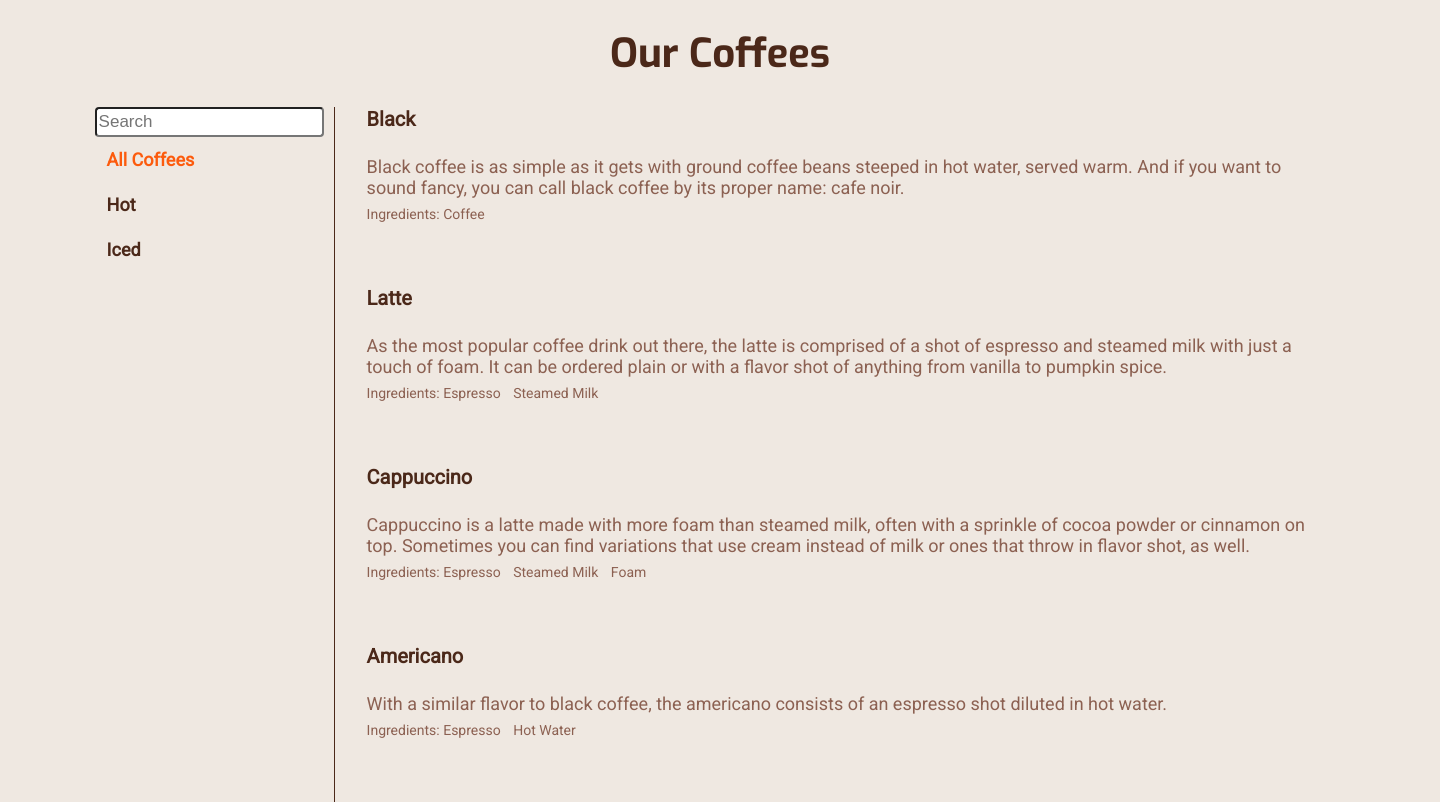
should Landing page text content as expected
Expected: the text "Black" is shown, [367,107,415,131]
Expected: the text "Black coffee is as simple as it gets with ground coffee beans steeped in hot water, served warm. And if you want to soun" is shown, [367,156,1281,198]
Click hot button
Step 1. Click the button "hot" → (121, 204), box [107,194,136,215]
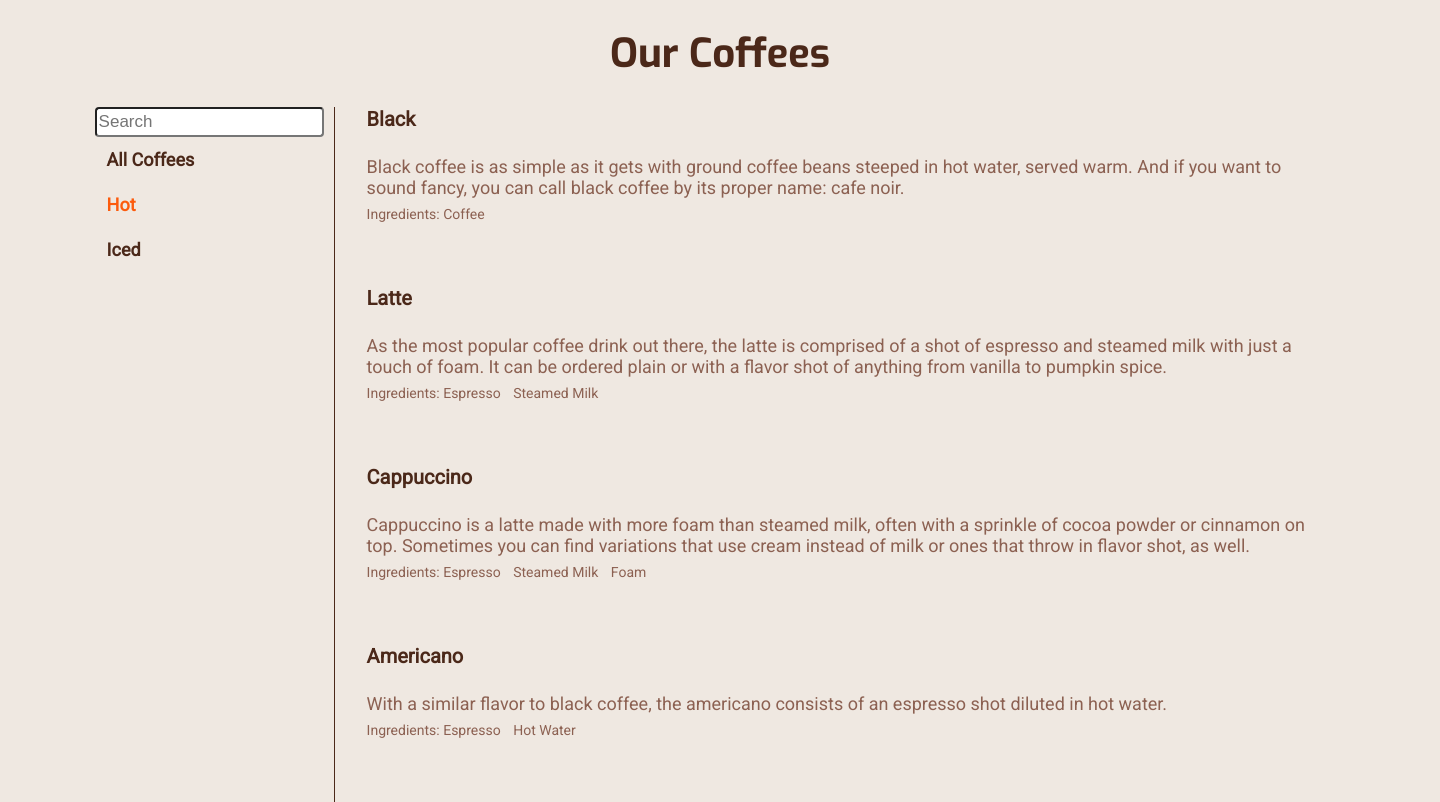
Find and write Bl to search box
Step 2. Type "Bl" into the field → (209, 122), box [95,107,324,137]
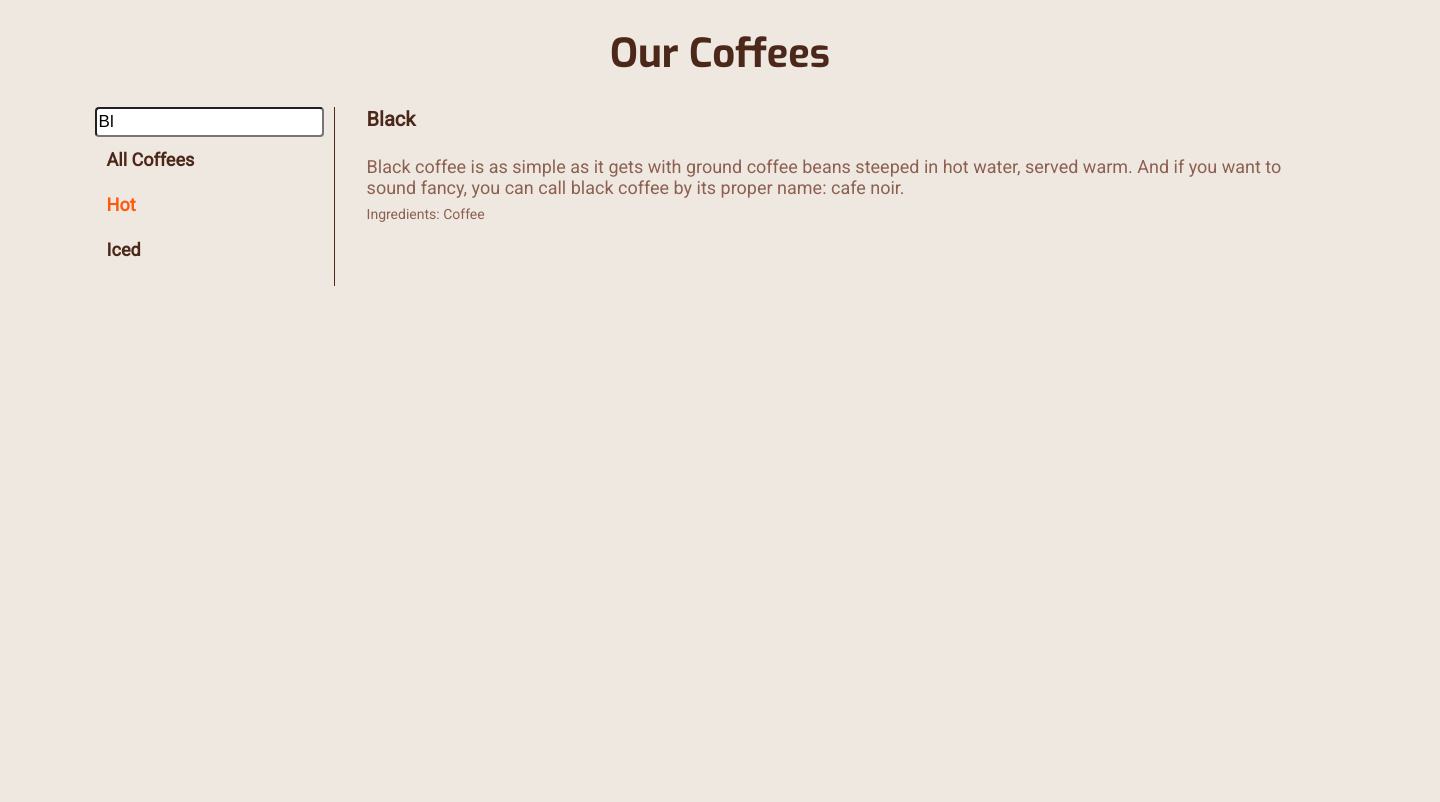
Expected: the text "Black" is shown, [367,107,415,131]
Expected: the text "Latte" is gone
Expected: the text "As the most popular coffee drink out there, the latte is comprised of a shot of espresso and steamed milk with just a to" is gone
Click Iced button
Step 3. Click the button "iced" → (124, 249), box [107,239,141,260]
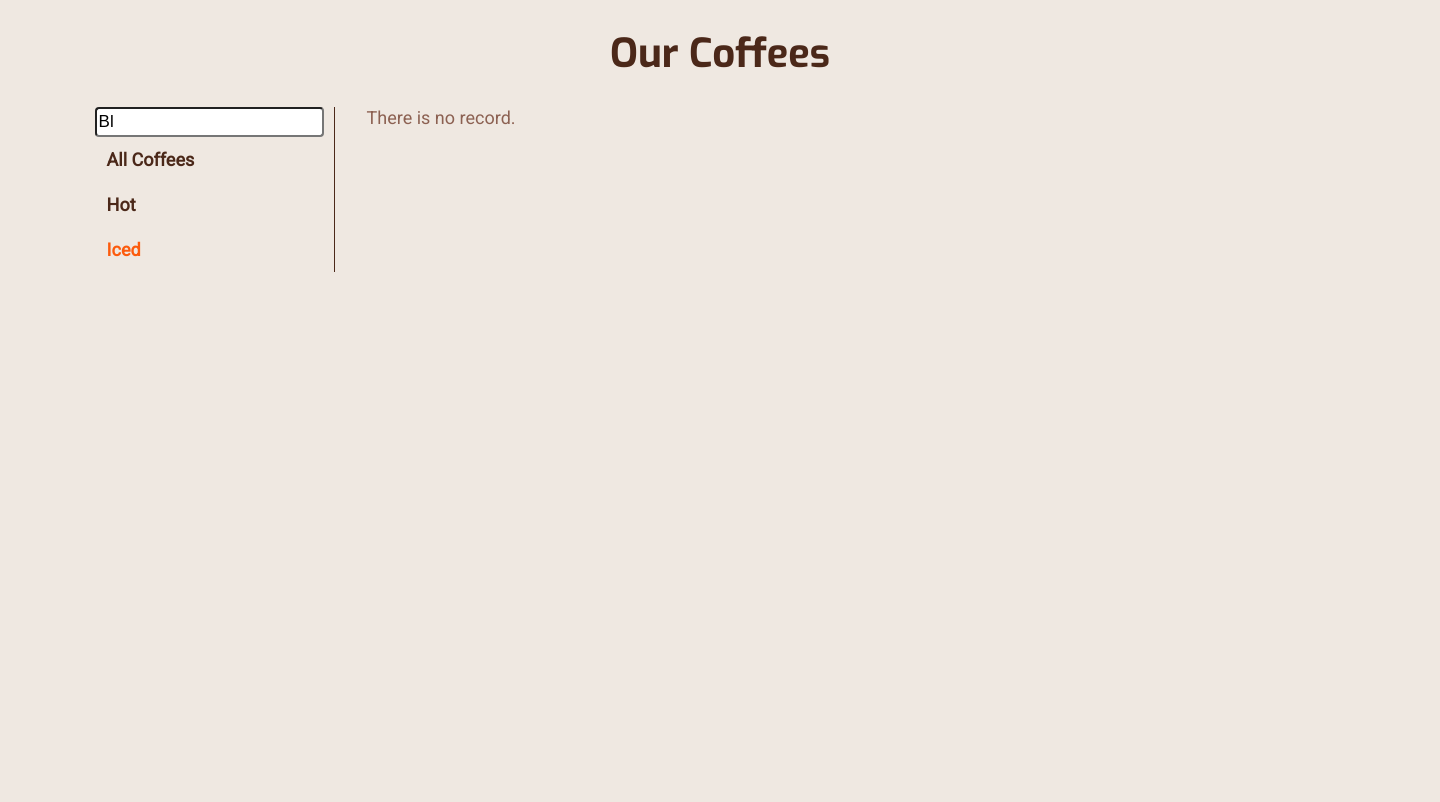
Expected: the text "Black" is gone
Expected: the text "Black coffee is as simple as it gets with ground coffee beans steeped in hot water, served warm. And if you want to soun" is gone
Expected: the text "There is no record." is shown, [367,107,516,128]
